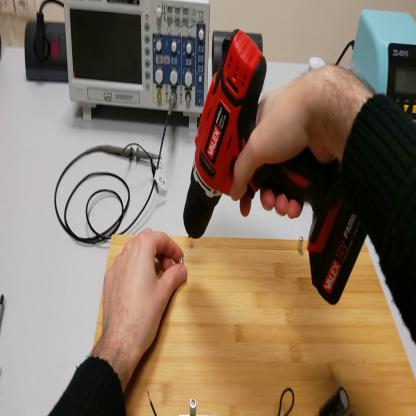electric screwdriver: (185, 29, 369, 308)
hand: (229, 71, 340, 216), (100, 231, 187, 360)
high voltage board: (147, 382, 350, 413)
oscilloscope: (64, 2, 214, 136)
oscilloscope probe tip: (100, 145, 164, 170)
screwdriver-: (1, 291, 6, 324)
socket: (25, 21, 70, 84)
welder station: (349, 9, 416, 123)
working area: (95, 236, 416, 415)
